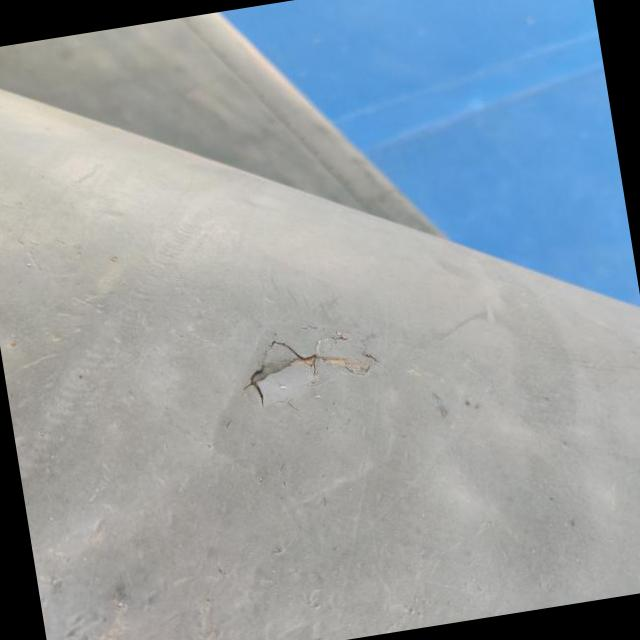Crack: (223, 330, 375, 425)
